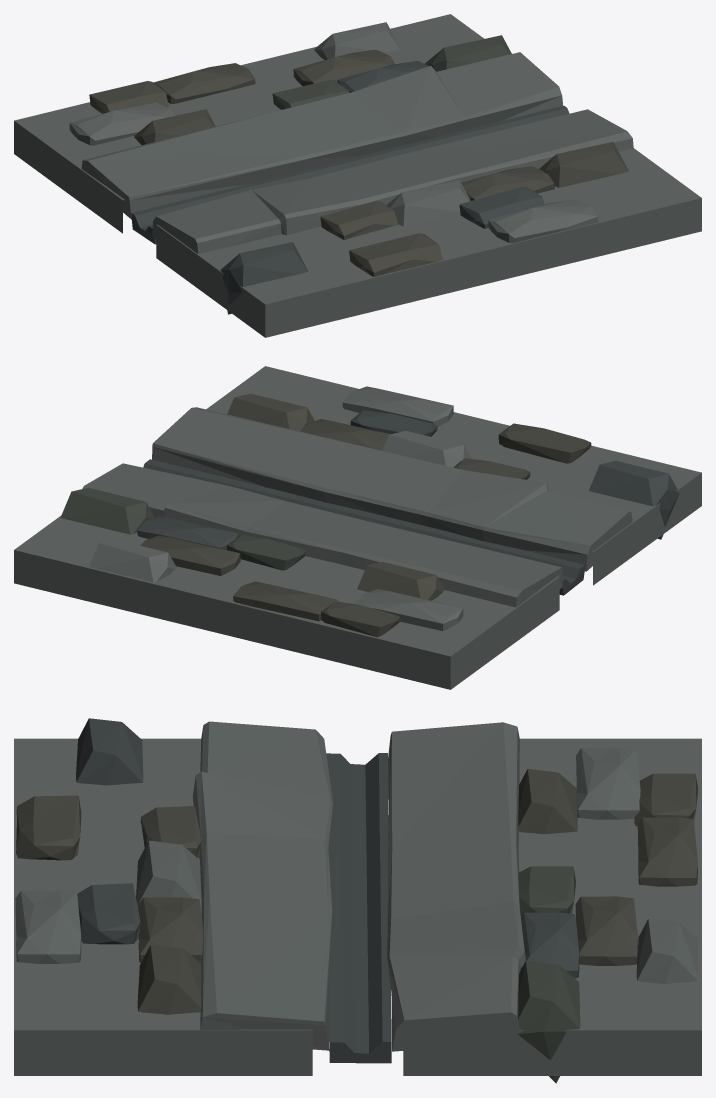
The model's file is MCastle_Cobbles_02.FBX.
3 renders of one model, top to bottom at view 1: azimuth 30°, elevation 25°; view 2: azimuth 150°, elevation 25°; view 3: azimuth 270°, elevation 25°, orthographic. The views are drawn at different scales.
Visible parts, largest first — view 1: MCastle_Cobbles_02_LOD0; view 2: MCastle_Cobbles_02_LOD0; view 3: MCastle_Cobbles_02_LOD0.
Part boxes in pixels (left/top/right/bottom): MCastle_Cobbles_02_LOD0: left=14, top=14, right=701, bottom=337; MCastle_Cobbles_02_LOD0: left=14, top=366, right=701, bottom=689; MCastle_Cobbles_02_LOD0: left=14, top=718, right=701, bottom=1083.
Size of what is drawn, in the model's own units: 4.03 by 0.5177 by 3.97.
